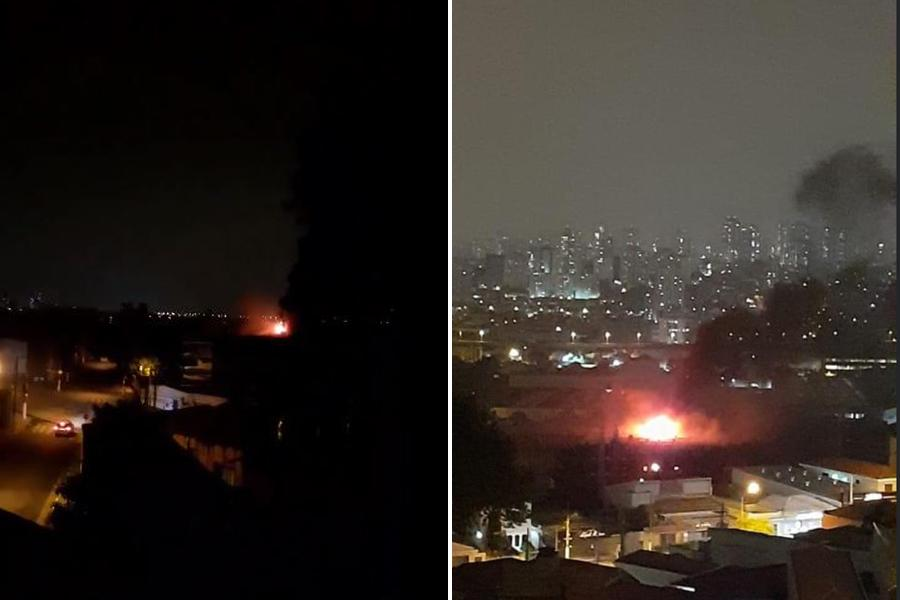Fire: (238, 303, 292, 338), (627, 412, 684, 441)
